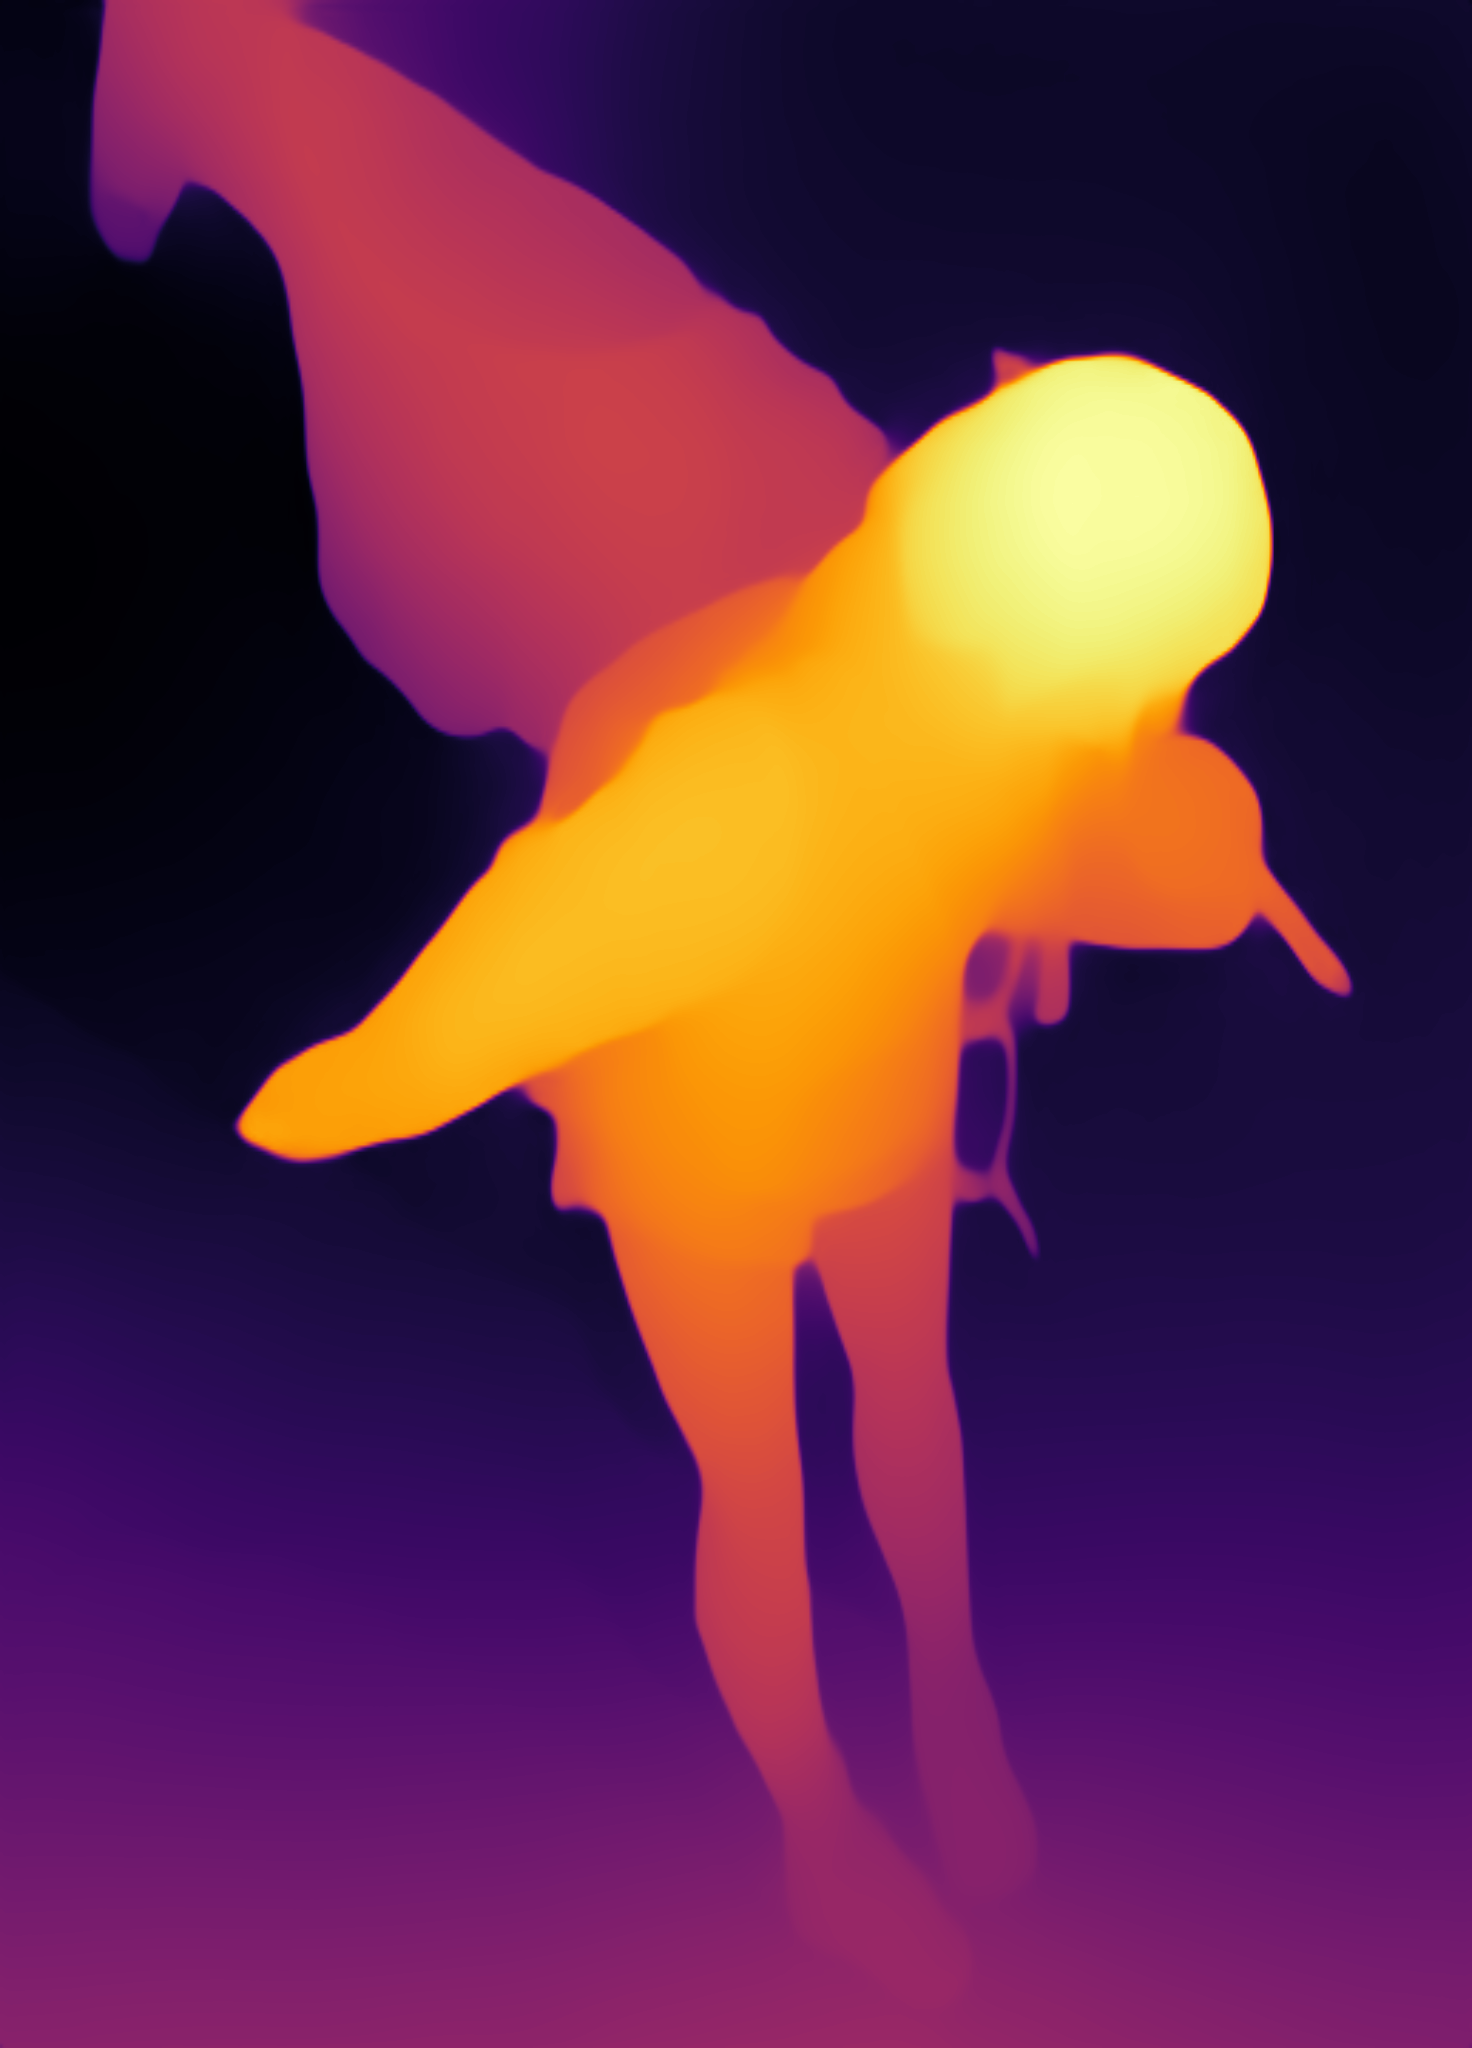p: (121, 205, 1331, 2007)
